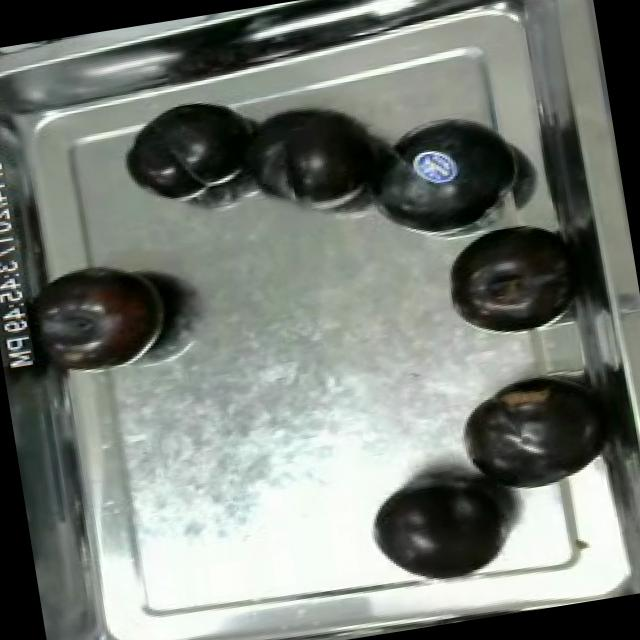Fruit: (344, 100, 530, 262), (218, 84, 396, 234), (446, 358, 622, 509), (361, 459, 523, 596), (109, 87, 274, 221), (427, 212, 586, 351), (24, 251, 186, 384)
